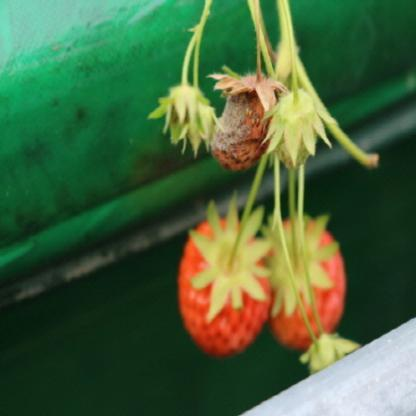Strawberry_Gray_Mold: (204, 67, 292, 171)
